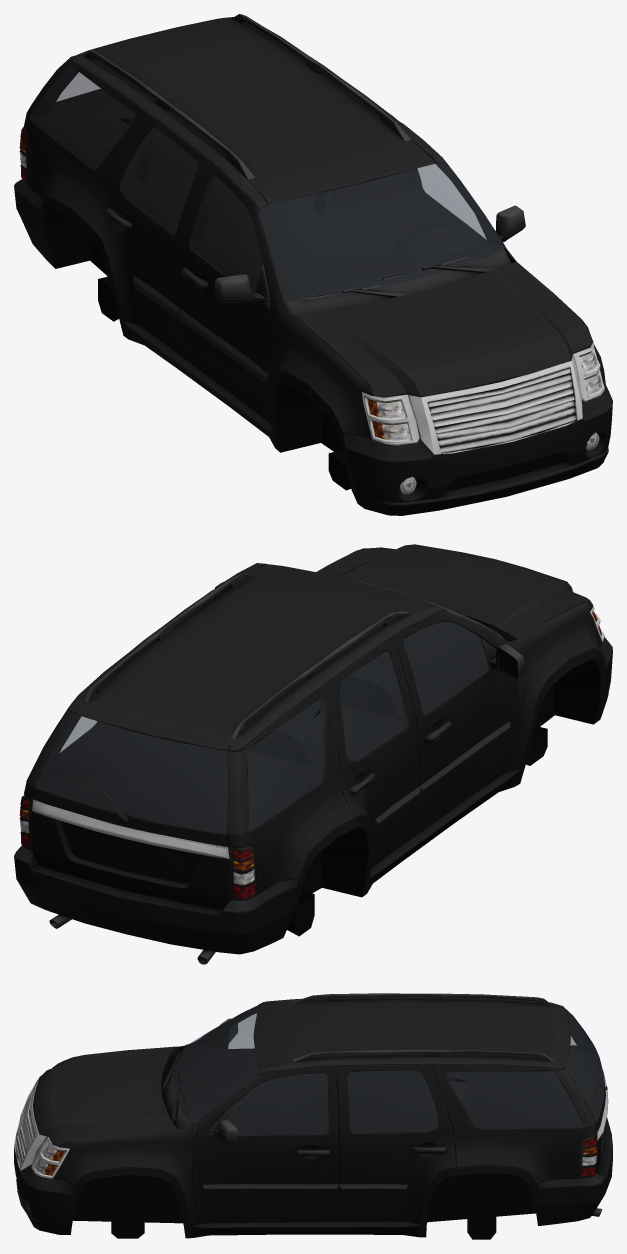
Rendered from suv_body.glb.
3 views of the same model, one above another, from view 1: azimuth 30°, elevation 25°; view 2: azimuth 150°, elevation 25°; view 3: azimuth 270°, elevation 25° (orthographic). The views are drawn at different scales.
Parts seen in each view (by area): view 1: SUV_Body; view 2: SUV_Body; view 3: SUV_Body.
Part boxes in pixels (x1=…): SUV_Body: x1=14, y1=14, x2=612, y2=515; SUV_Body: x1=14, y1=544, x2=612, y2=964; SUV_Body: x1=14, y1=993, x2=612, y2=1239.
Bounding box in the file's own units: 2.15 × 1.6 × 4.8.
Materials: 3 (2 with a texture image).
